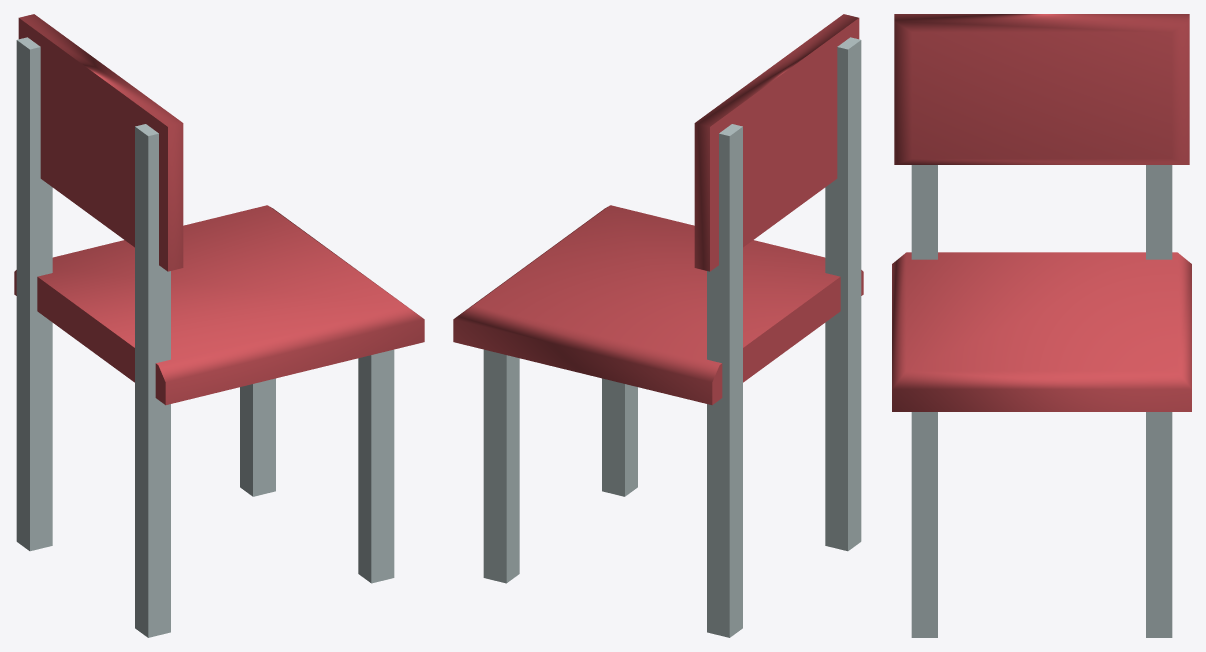
The model's file is SM_Chair_001.fbx.
The picture shows the model from 3 angles, left to right: view 1: azimuth 30°, elevation 25°; view 2: azimuth 150°, elevation 25°; view 3: azimuth 270°, elevation 25°; orthographic projection.
Visible parts, largest first — view 1: Cube.003; view 2: Cube.003; view 3: Cube.003.
Part boxes in pixels (x1=…): Cube.003: x1=14, y1=14, x2=424, y2=637; Cube.003: x1=453, y1=14, x2=863, y2=637; Cube.003: x1=892, y1=14, x2=1191, y2=637.
Size of the model in its own units: 0.271 by 0.5002 by 0.2666.
